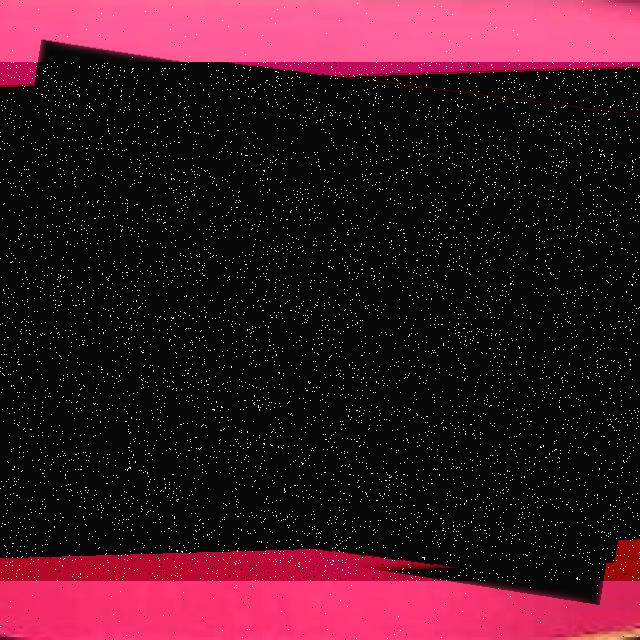dua ribu rupiah: (0, 62, 640, 581)
